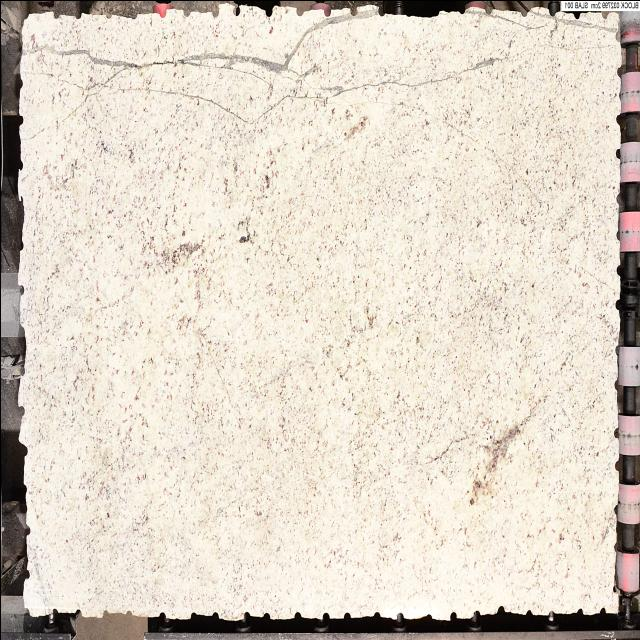chapa: (21, 3, 619, 619)
veio: (12, 400, 26, 422), (292, 2, 308, 19), (346, 0, 359, 18), (262, 3, 276, 19), (320, 4, 336, 18), (542, 4, 558, 18), (447, 608, 459, 624), (210, 2, 221, 19), (319, 608, 332, 622), (610, 422, 620, 440), (496, 601, 508, 615), (157, 5, 169, 19), (394, 609, 404, 625), (612, 296, 622, 312), (596, 604, 608, 616), (23, 564, 31, 582), (613, 62, 621, 80), (612, 146, 621, 162), (180, 6, 194, 16), (232, 2, 242, 16), (343, 608, 352, 619), (568, 12, 580, 20)
